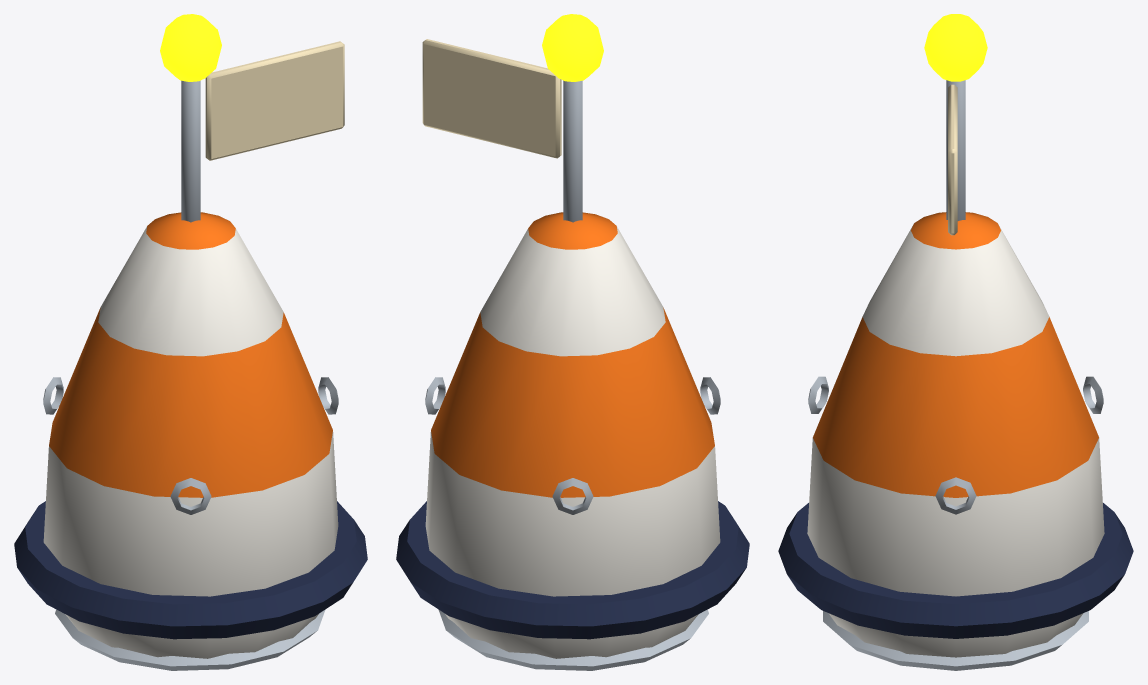
Rendered from Tutorial_LessonBuoy_Turn.fbx.
3 renders of one model, left to right at view 1: azimuth 30°, elevation 25°; view 2: azimuth 150°, elevation 25°; view 3: azimuth 270°, elevation 25°, orthographic.
Parts seen in each view (by area): view 1: Static, Flag; view 2: Static, Flag; view 3: Static, Flag.
Part boxes in pixels (x1=…): Static: x1=14, y1=14, x2=367, y2=670; Flag: x1=205, y1=41, x2=344, y2=160; Static: x1=396, y1=14, x2=749, y2=670; Flag: x1=422, y1=39, x2=561, y2=158; Static: x1=778, y1=14, x2=1133, y2=670; Flag: x1=948, y1=84, x2=957, y2=235.
Bounding box in the file's own units: 2.24 × 4.18 × 2.24.
